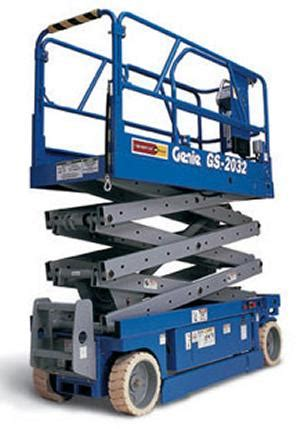Scissor Lift: (27, 9, 284, 417)
